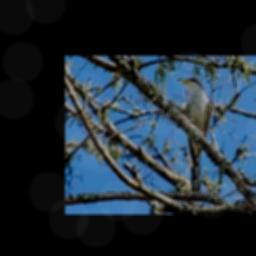Cuckoo: (178, 77, 212, 194)
